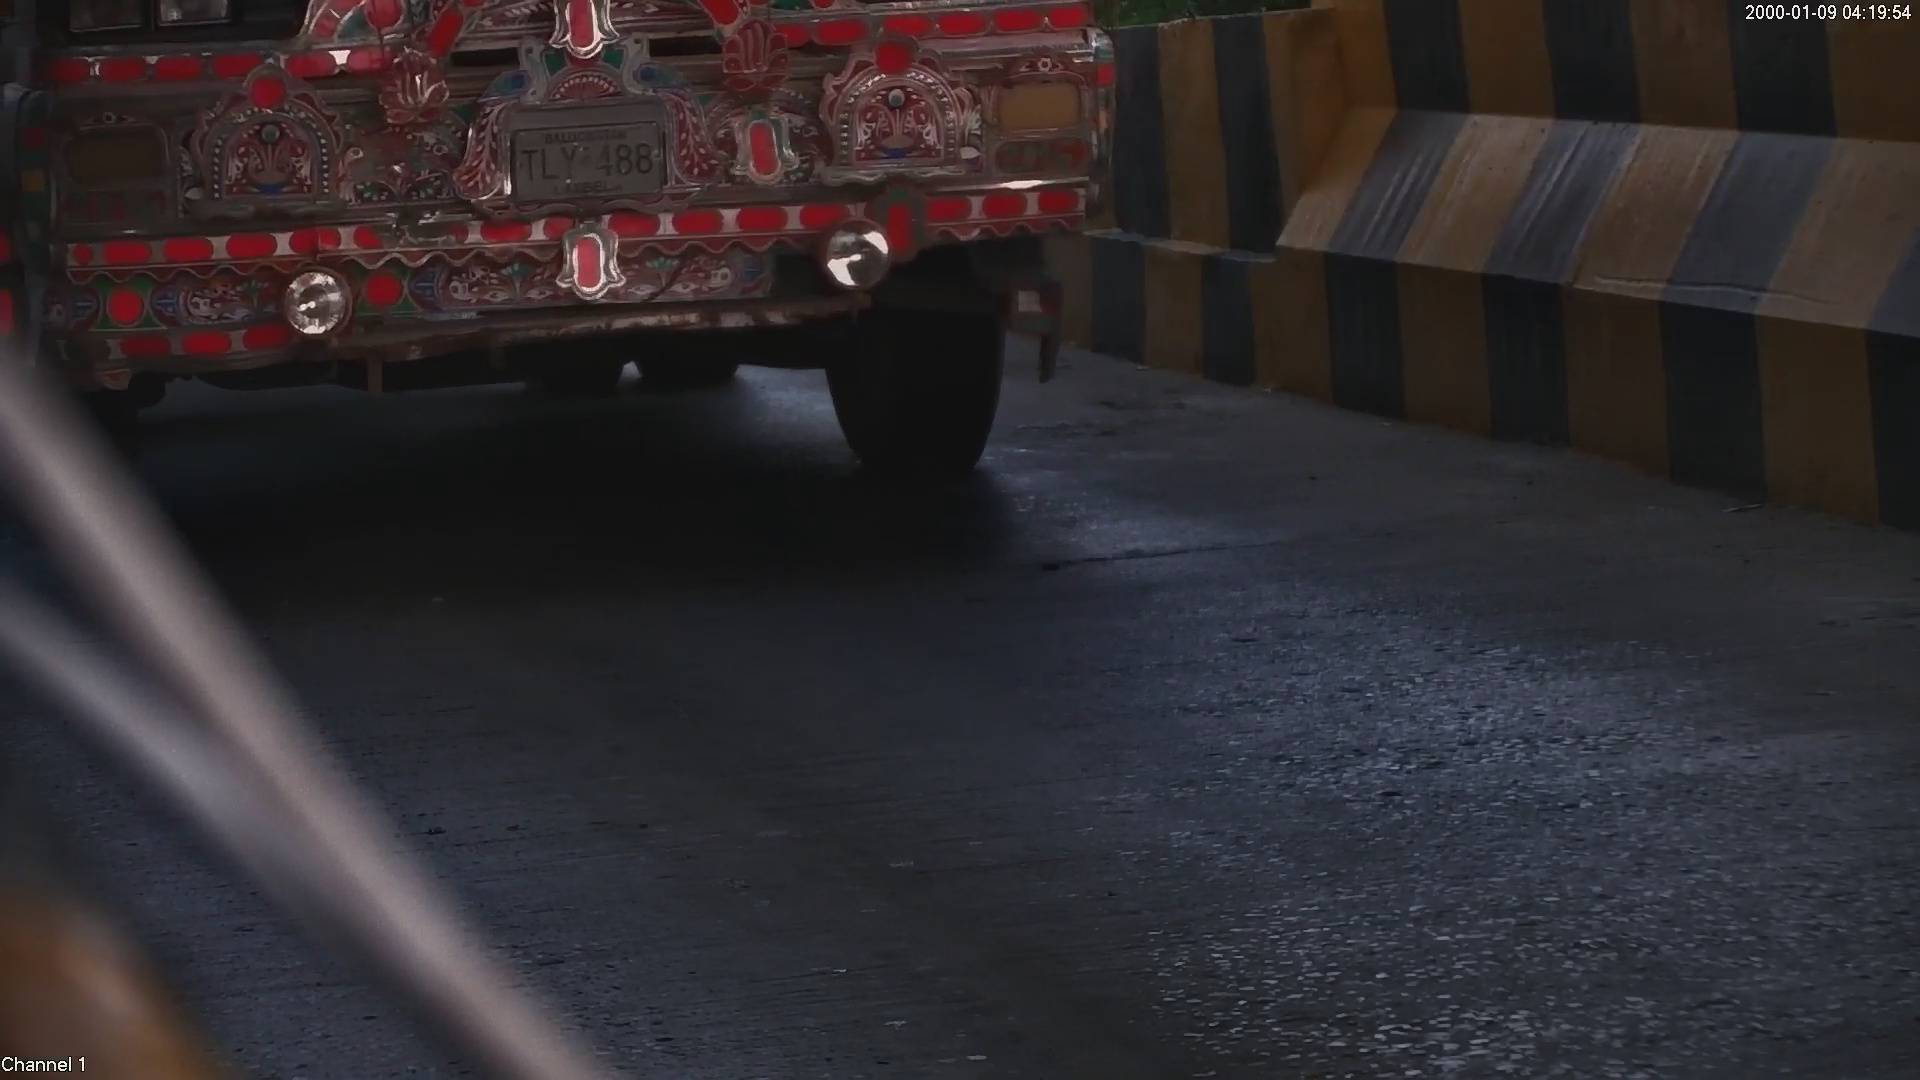Number_Plate: (493, 107, 682, 212)
